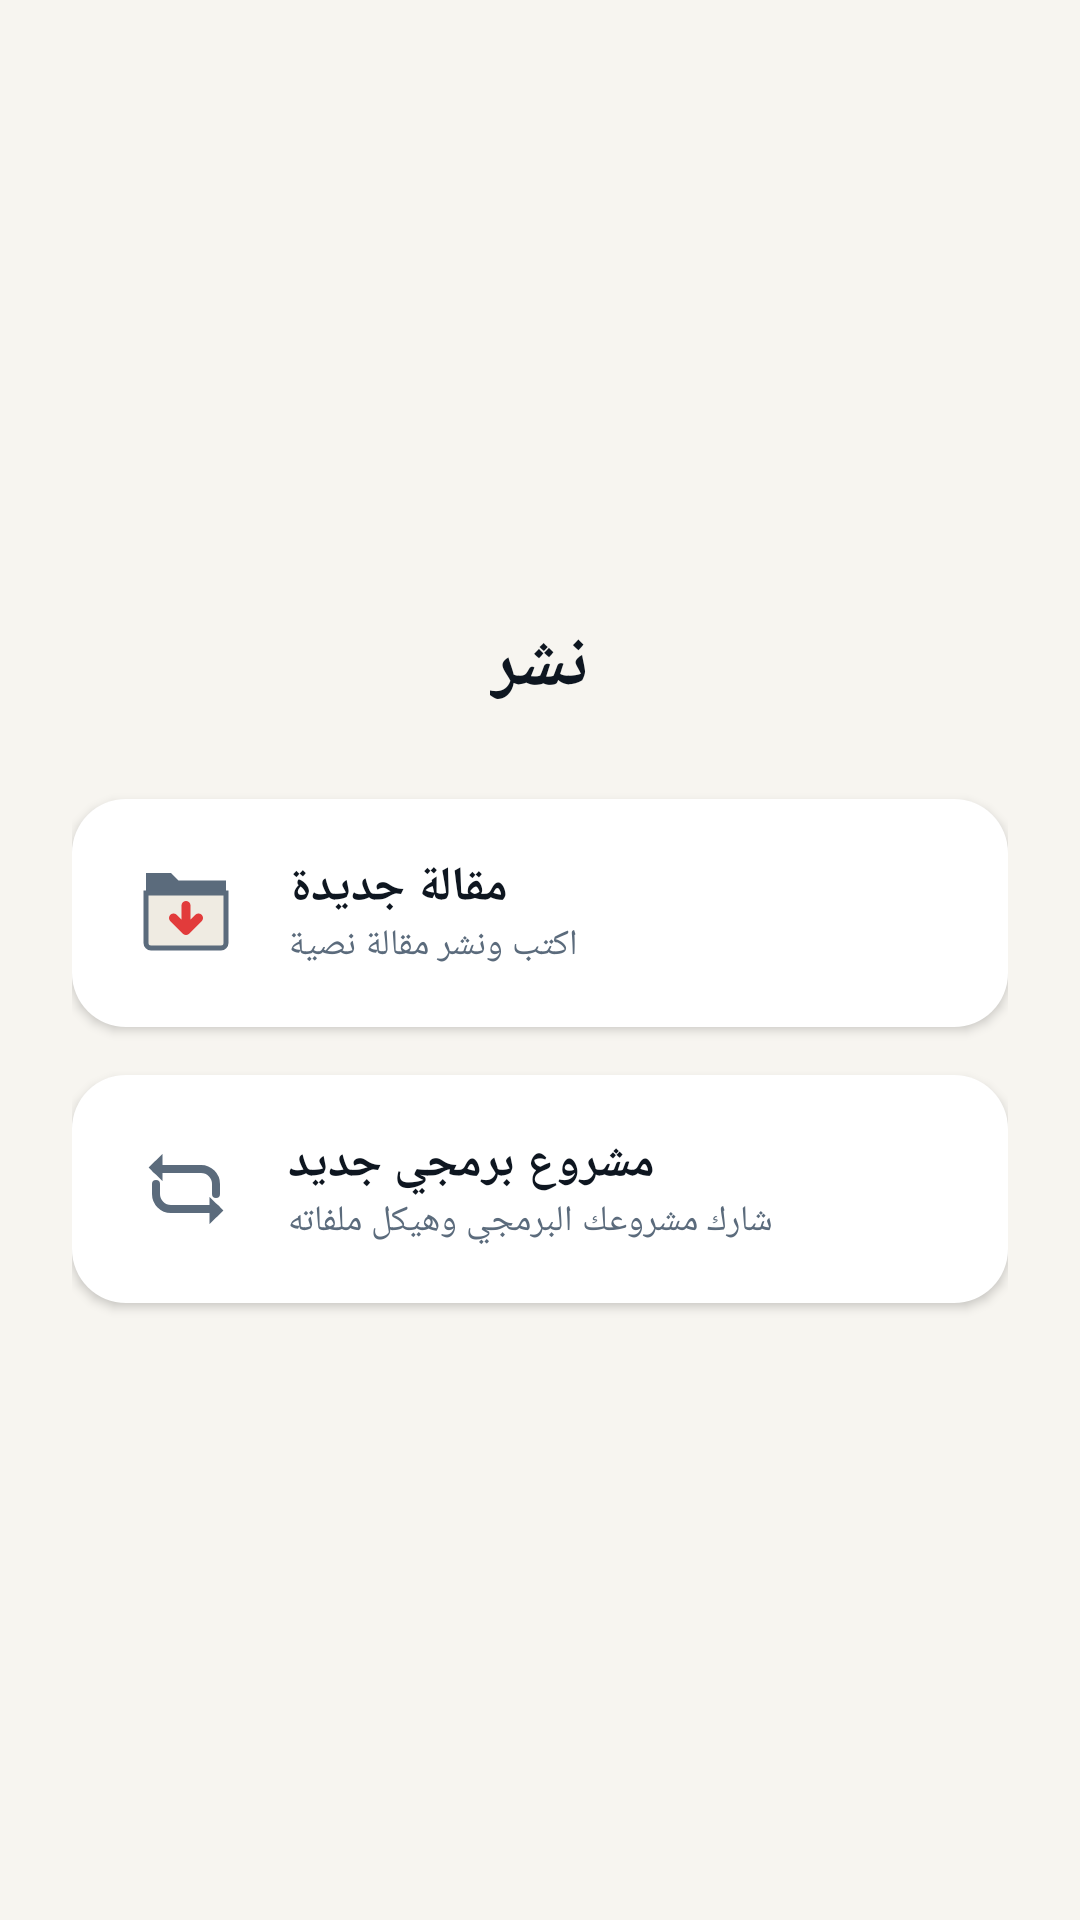

Named icons in this screenshot (1080*1920) and their bounding boxes, [x1, y1, x2, y2]:
download structured: [143, 873, 229, 951]
repost: [149, 1154, 223, 1224]
